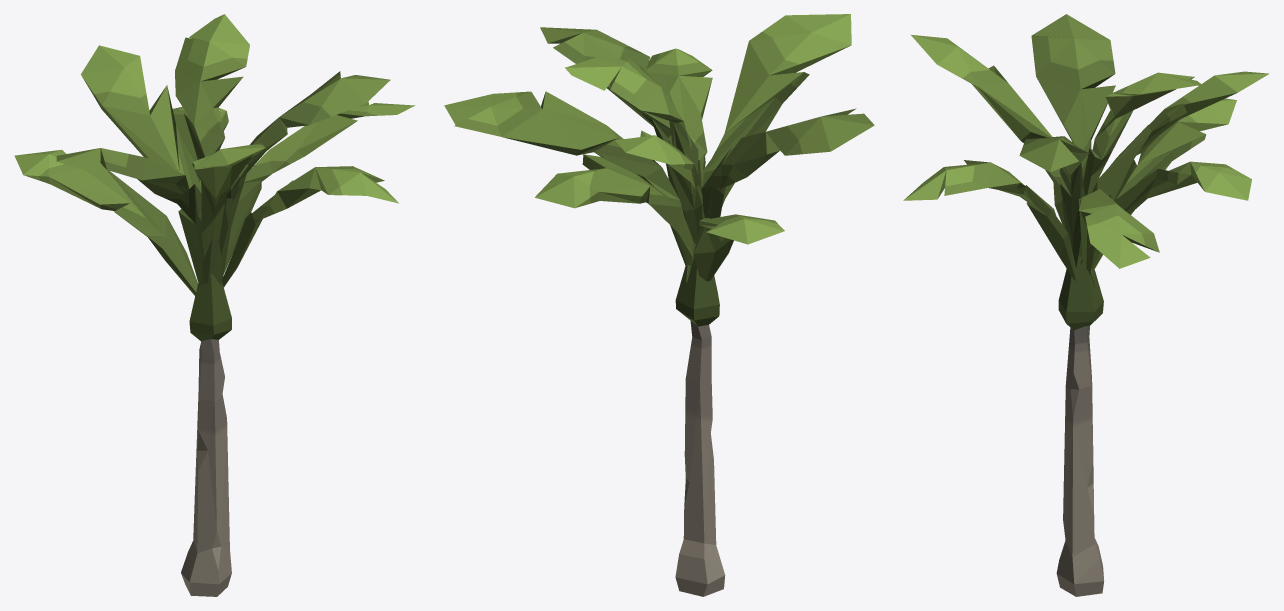
The model's file is SM_Env_Tree_01.fbx.
3 renders of one model, left to right at view 1: azimuth 30°, elevation 25°; view 2: azimuth 150°, elevation 25°; view 3: azimuth 270°, elevation 25°, orthographic. The views are drawn at different scales.
Parts seen in each view (by area): view 1: SM_Env_Tree_01; view 2: SM_Env_Tree_01; view 3: SM_Env_Tree_01.
Boxes of the visible parts, x1,y1,x2,y2 form: SM_Env_Tree_01: (14,14,414,596); SM_Env_Tree_01: (444,14,874,596); SM_Env_Tree_01: (903,14,1269,596).
Bounding box in the file's own units: 466 × 606 × 369.
